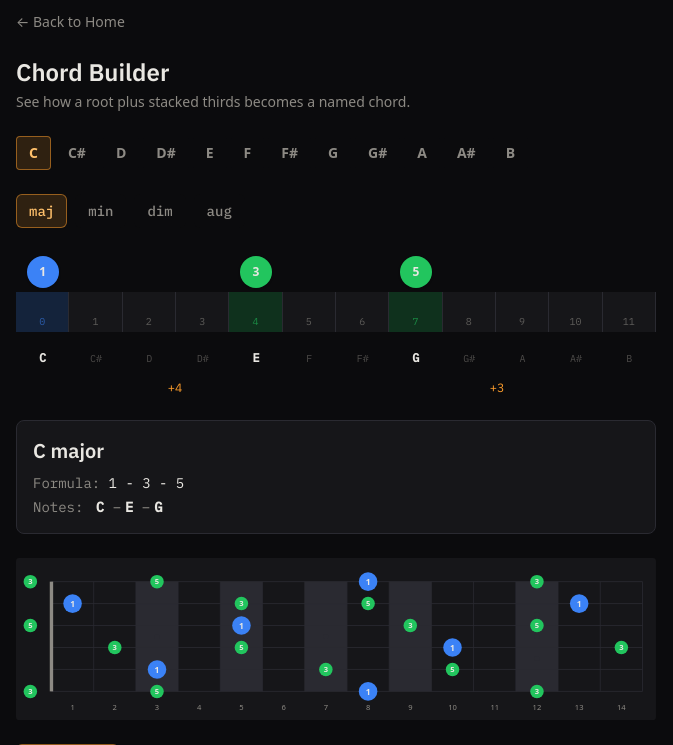
Test case: ChordBuilder › quality toggle › toggling maj → min → maj restores C major
Click the button "min" at (101, 211), box top-left (75, 194), bottom-right (126, 228)
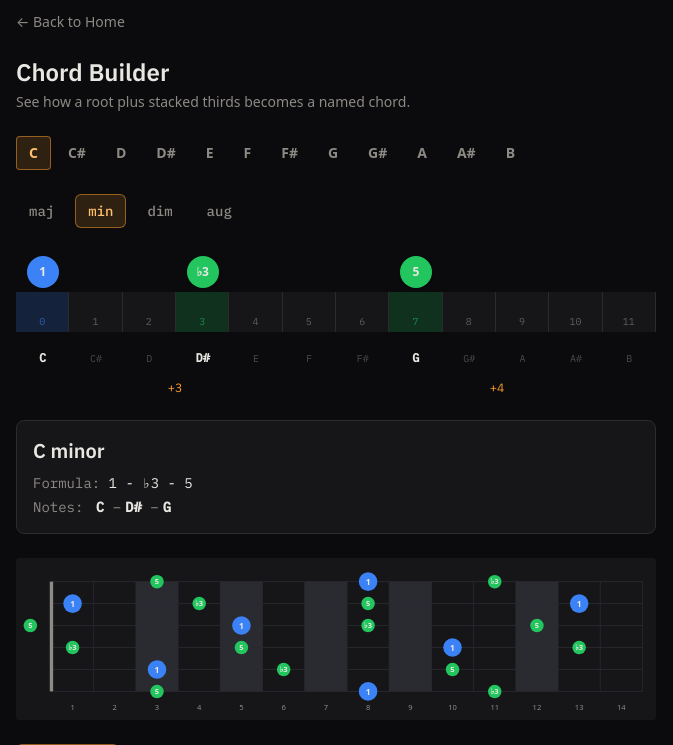
Expected: the text "C minor" is shown, top-left (33, 437), bottom-right (105, 464)
Click the button "maj" at (42, 211), box top-left (16, 194), bottom-right (67, 228)
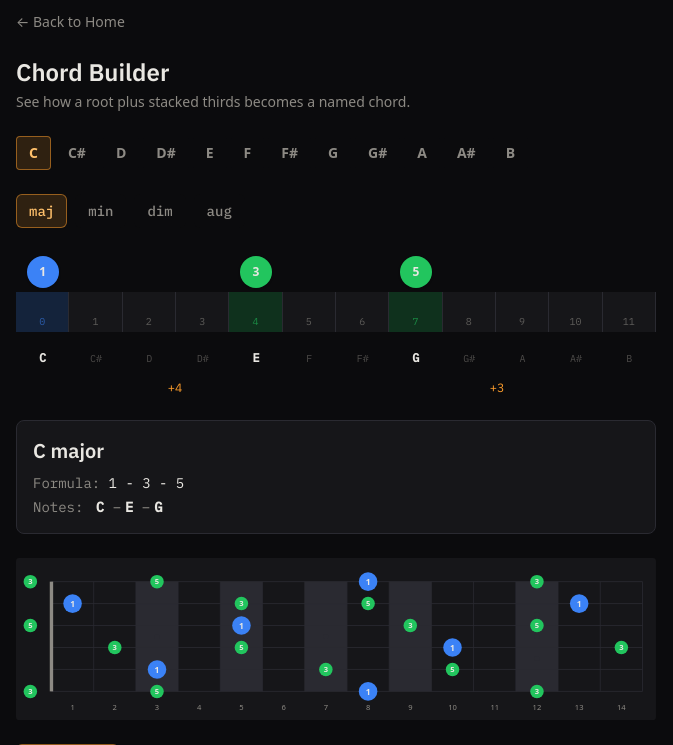
Expected: the text "C major" is shown, top-left (33, 437), bottom-right (104, 464)
Expected: the text "1 - 3 - 5" is shown, top-left (109, 474), bottom-right (184, 492)
